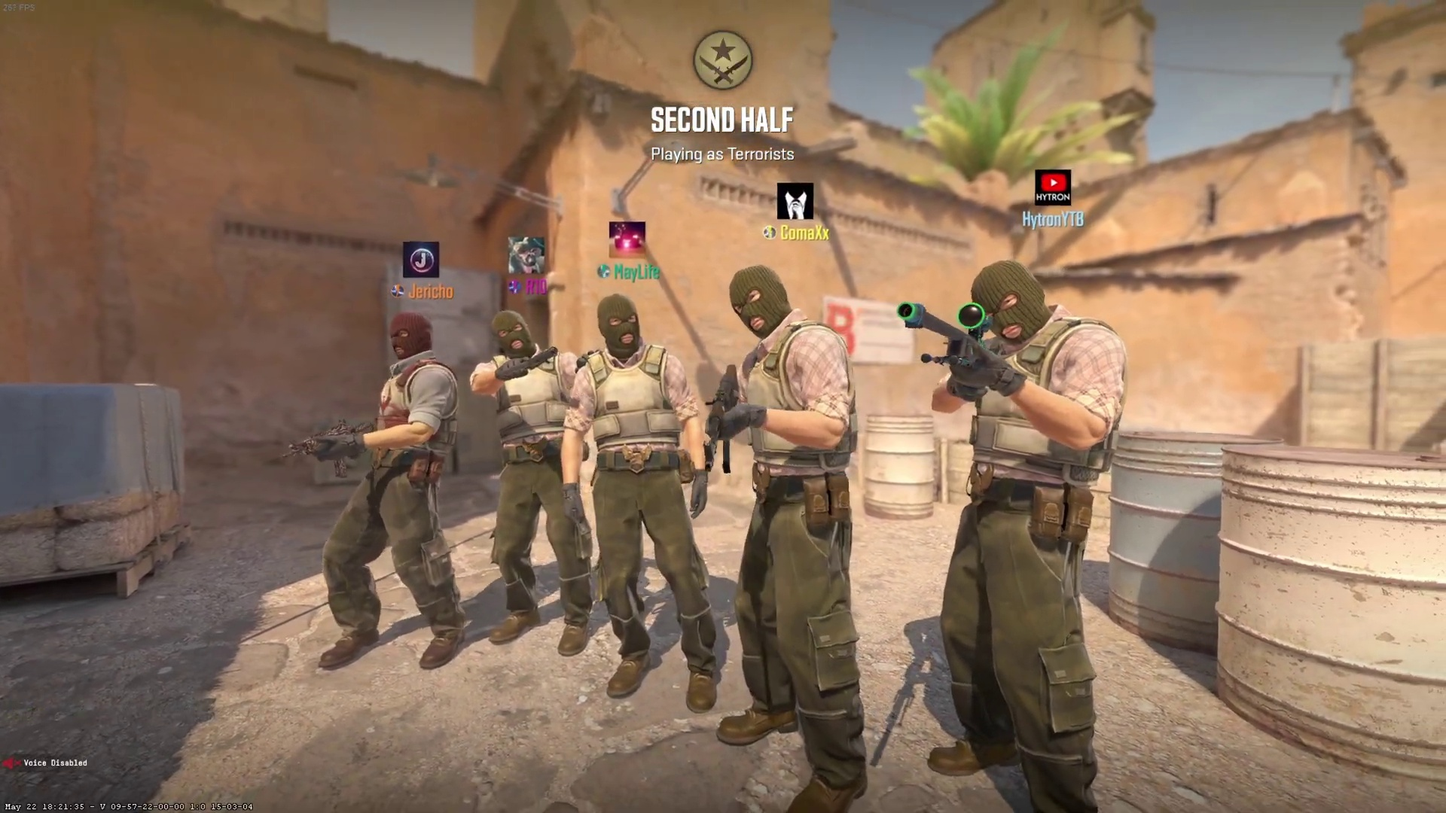Terrorist: (935, 264, 1123, 813), (716, 265, 871, 811), (584, 296, 709, 714), (323, 312, 467, 664), (486, 311, 581, 654)
